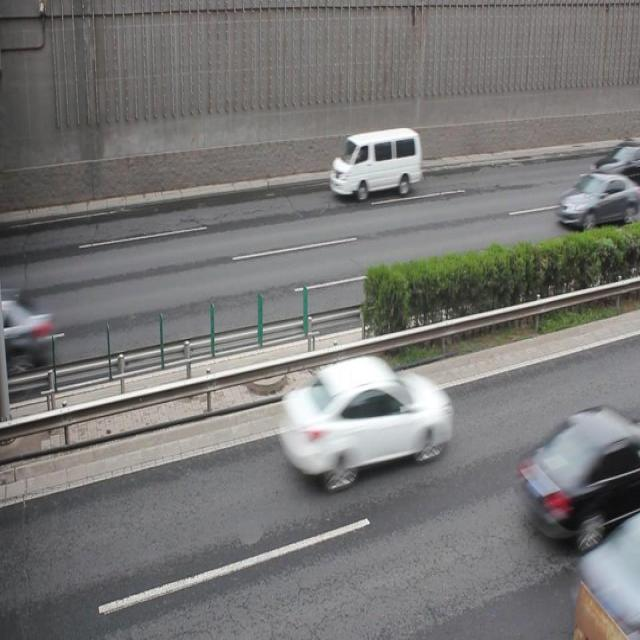car: (281, 355, 446, 486), (515, 407, 640, 546), (576, 512, 640, 631), (1, 283, 56, 383), (557, 173, 640, 225), (591, 143, 640, 184)
truck: (330, 128, 420, 201)
